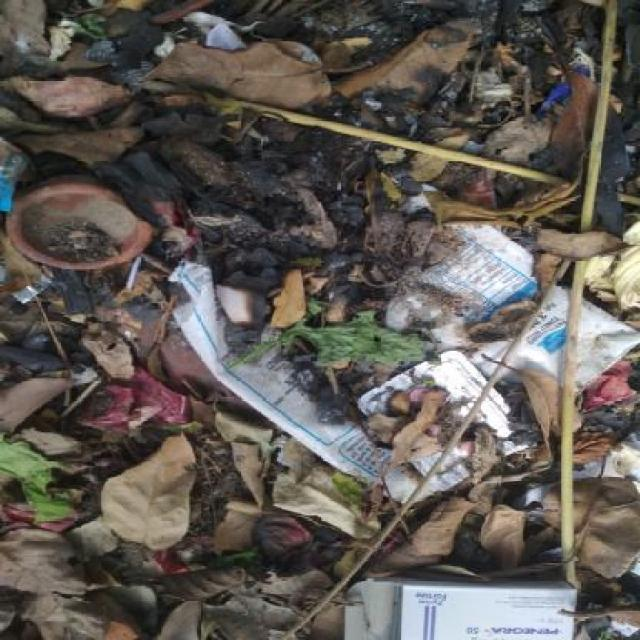garbage: (2, 6, 640, 639)
